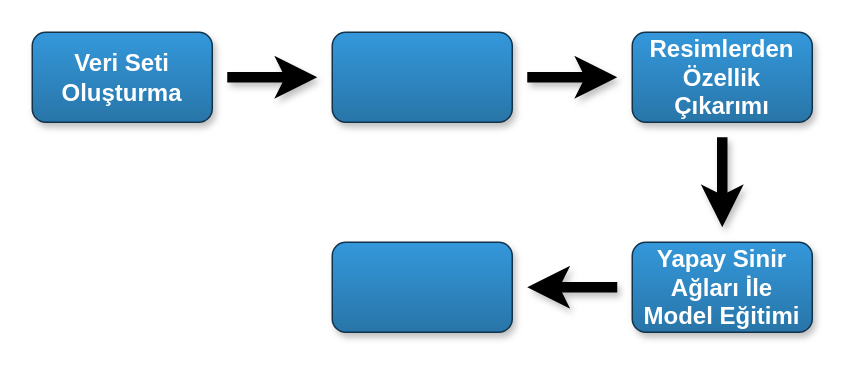
Image size: 848x369. Some labels were removed from this diagram. Here are the shapes that lost their labels. From the top down, the centre of each, then its label:
(x=423, y=79): Veri Önişleme
(x=423, y=289): Model Testi
